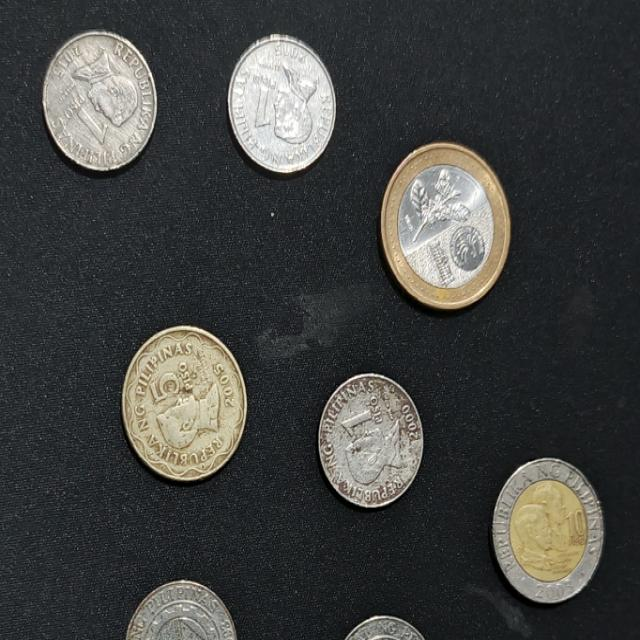10_peso: (493, 457, 603, 601)
1_peso: (42, 35, 154, 166), (228, 35, 334, 172), (321, 373, 422, 507), (127, 580, 236, 639)
20_peso: (382, 143, 510, 308)
5_peso: (122, 326, 246, 481)
